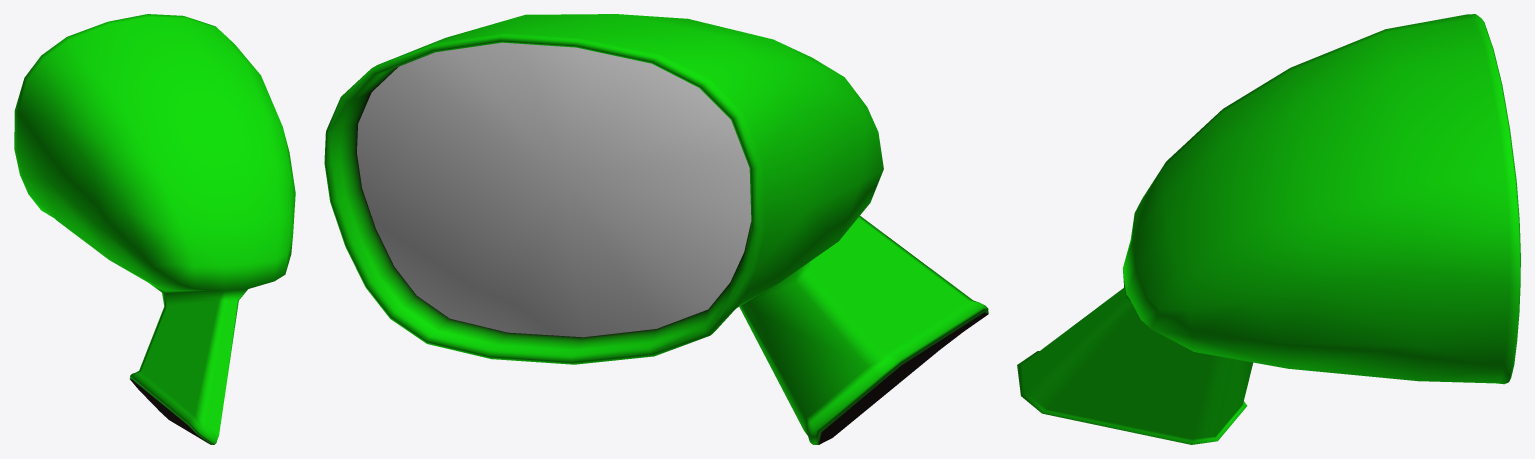
Rendered from Car_Buick_GrandNational_1987_MirrorL_SetXS.fbx.
3 renders of one model, left to right at view 1: azimuth 30°, elevation 25°; view 2: azimuth 150°, elevation 25°; view 3: azimuth 270°, elevation 25°, orthographic. The views are drawn at different scales.
Parts seen in each view (by area): view 1: MirrorL 6; view 2: MirrorL 6; view 3: MirrorL 6.
Boxes of the visible parts, x1,y1,x2,y2 form: MirrorL 6: (14, 14, 295, 444); MirrorL 6: (324, 14, 988, 444); MirrorL 6: (1017, 14, 1520, 444).
Bounding box in the file's own units: 0.1534 × 0.1842 × 0.1963.
